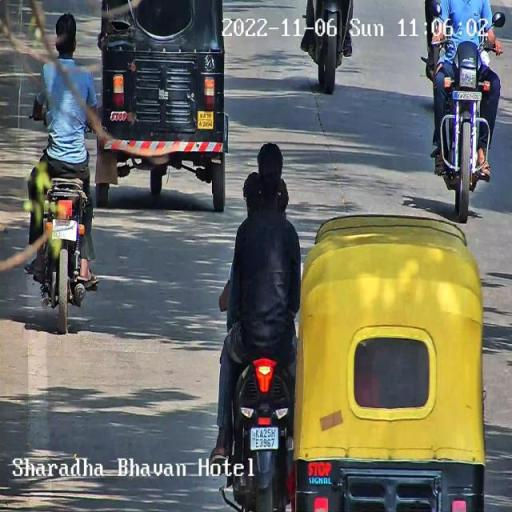tripple riding: (220, 140, 302, 355)
